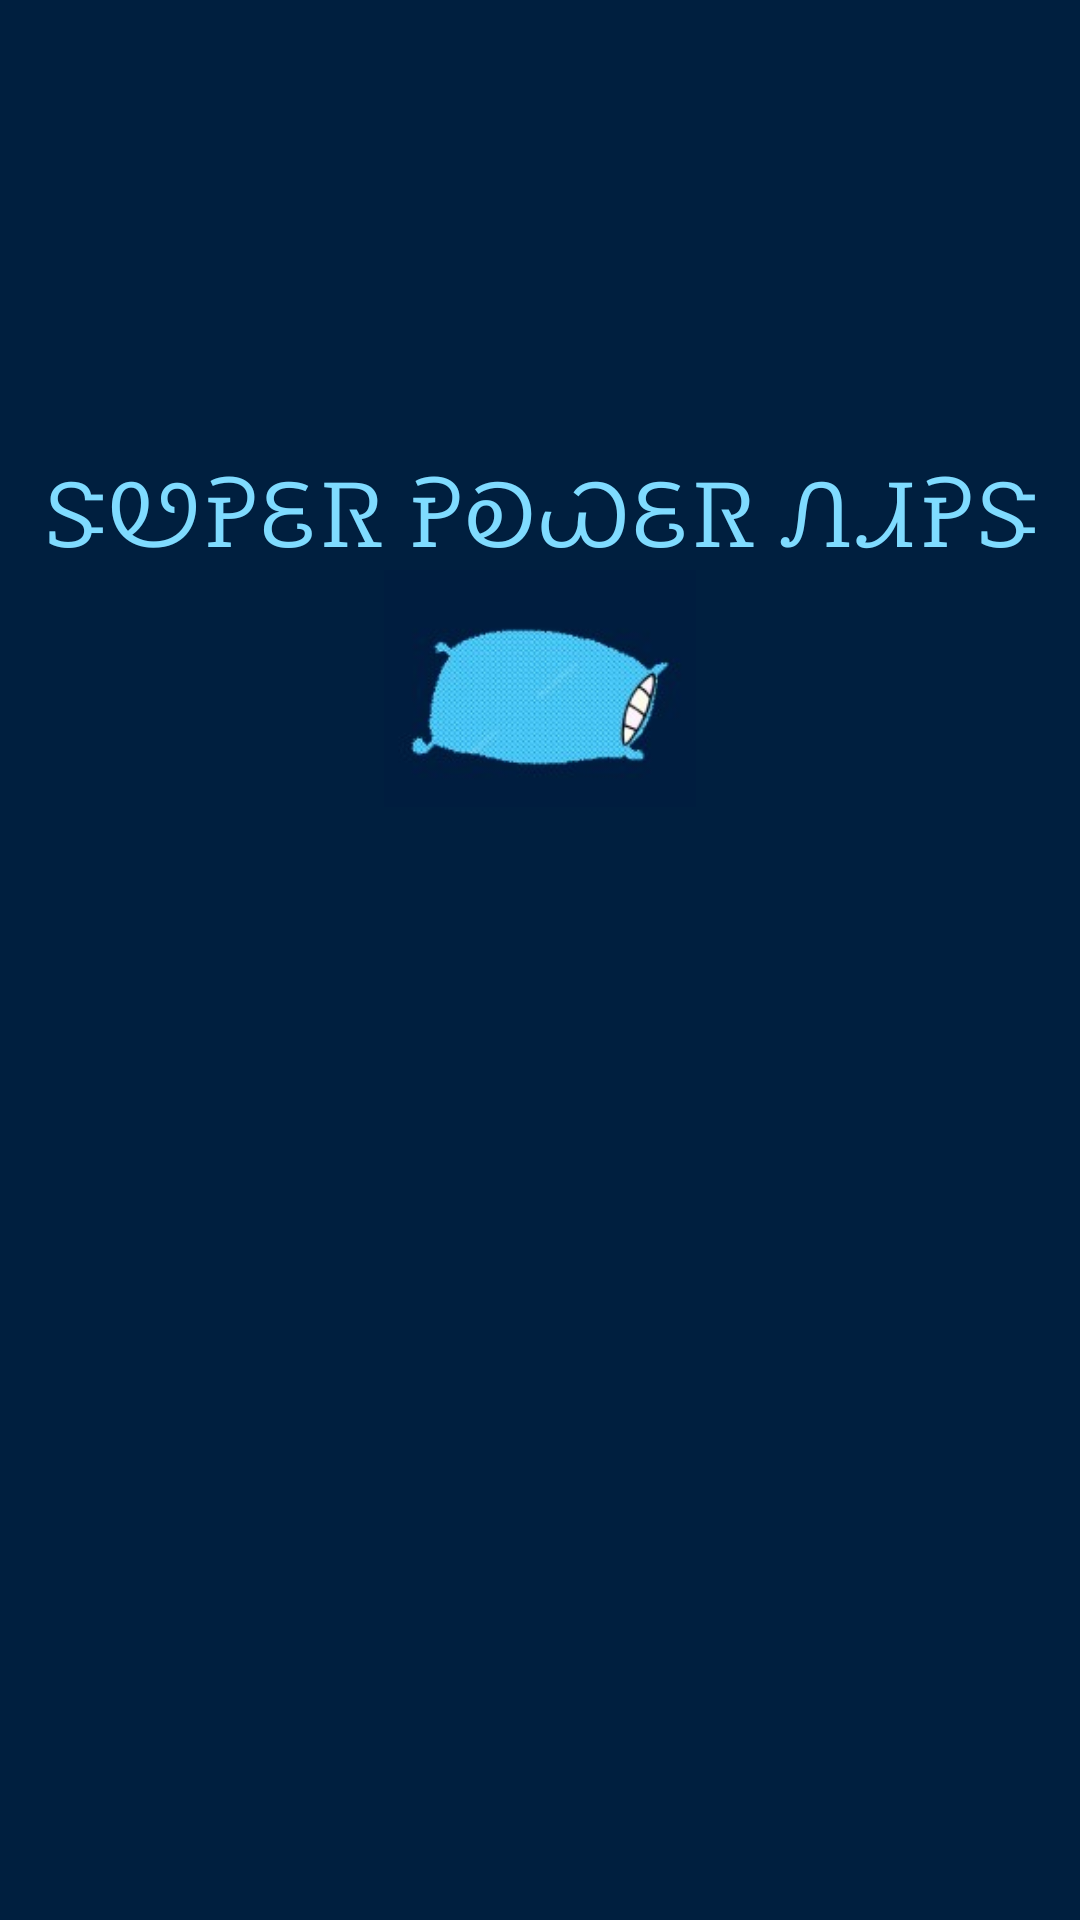

Icons on this 1080*1920 Android screen, each with its box as bbox(x1, y1, x2, y2):
pillow: bbox(411, 629, 669, 765)
